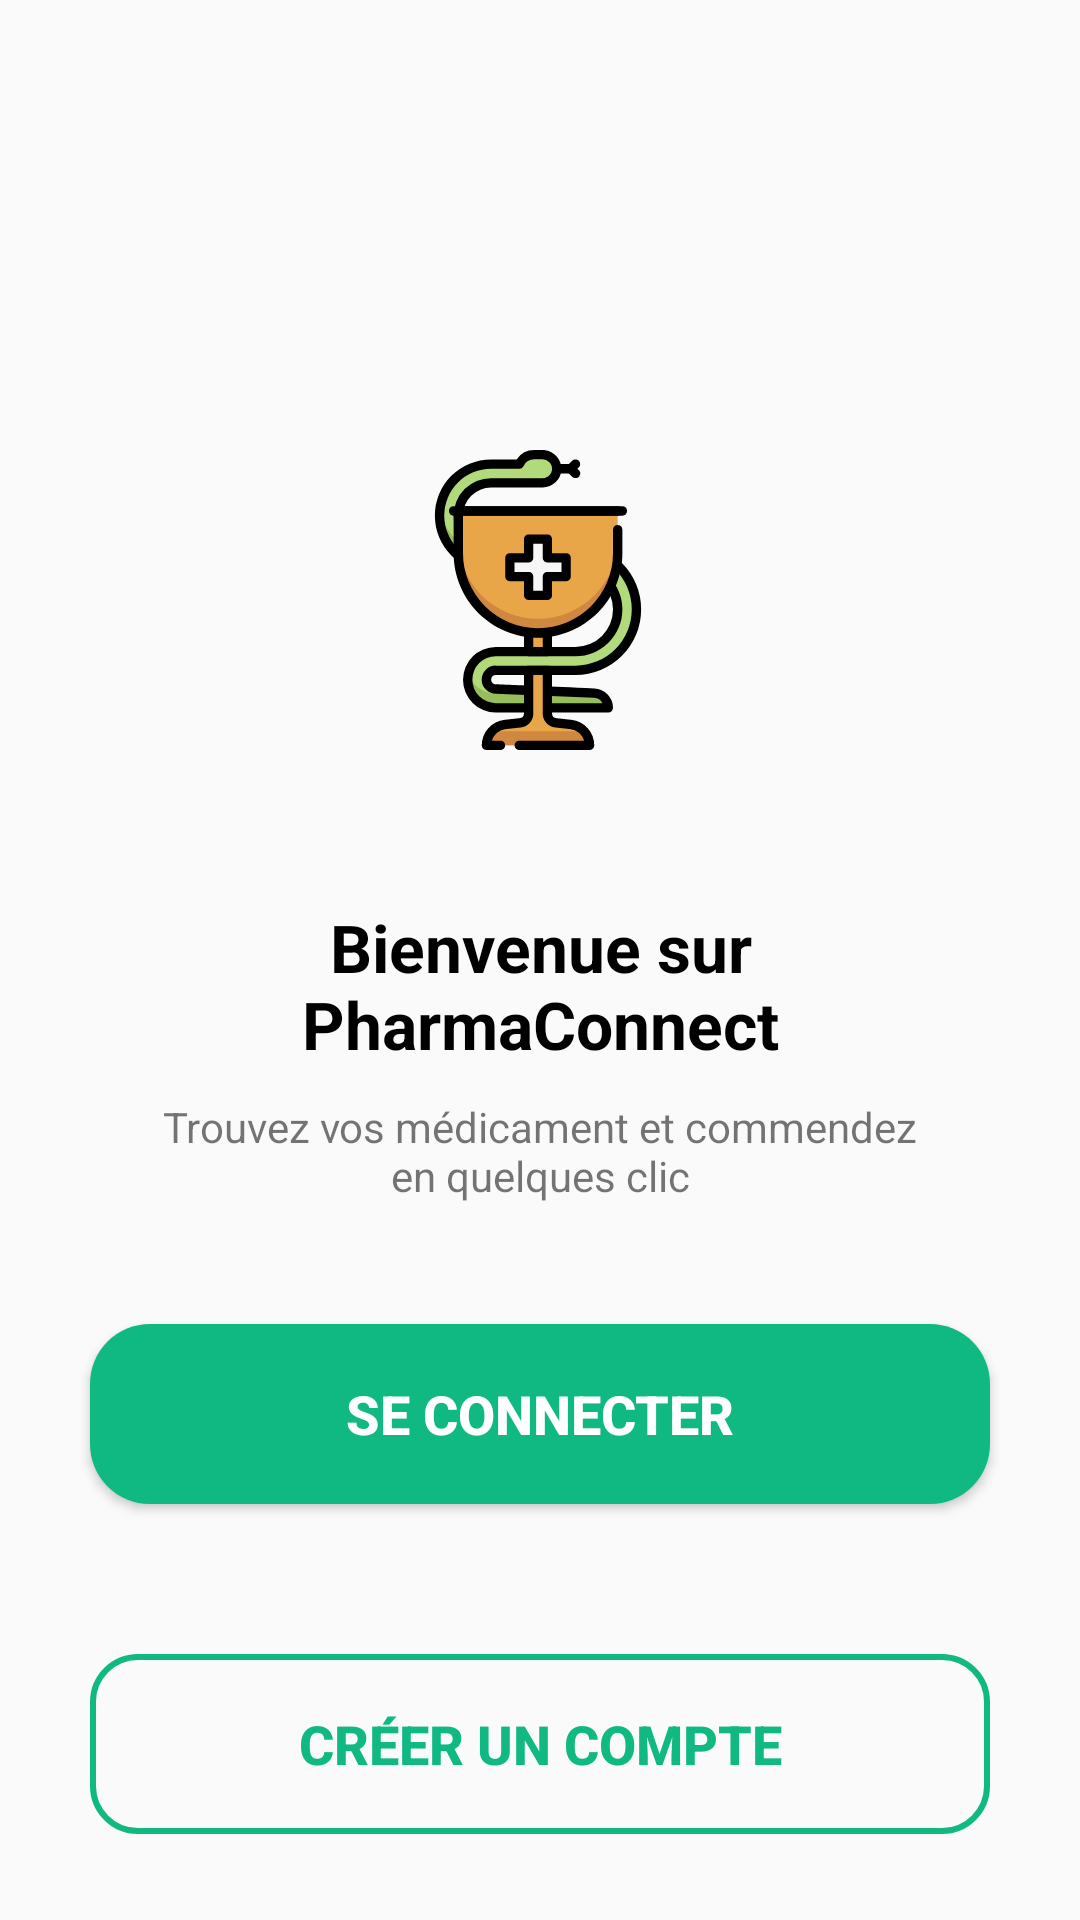

Icon bounding boxes for this 1080 × 1920 phone screenshot, format (x1, y1, x2, y2):
pharmacy: (434, 450, 642, 750)
